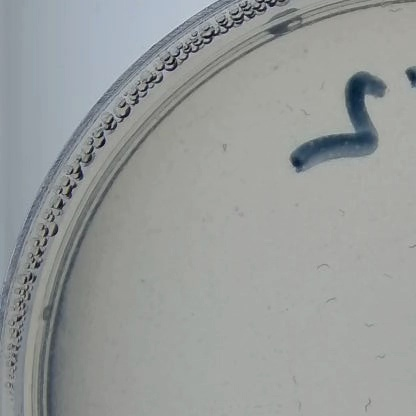worm: (285, 368, 306, 397), (381, 2, 406, 25), (313, 258, 332, 282), (311, 77, 329, 101), (359, 393, 379, 414), (292, 105, 313, 122), (405, 230, 416, 261), (245, 399, 265, 416), (319, 293, 337, 311), (333, 204, 349, 222), (370, 348, 392, 361), (289, 400, 305, 416), (380, 270, 396, 285), (359, 318, 380, 328), (283, 100, 296, 115)
